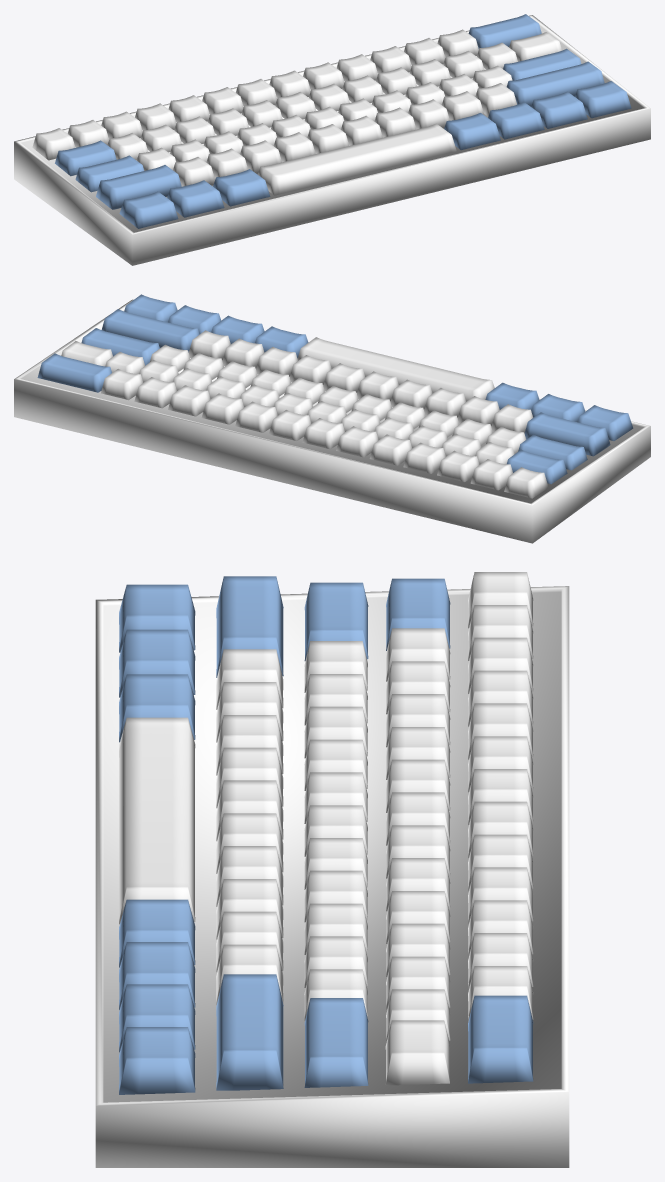
File: teclado-60.glb
3 renders of one model, top to bottom at view 1: azimuth 30°, elevation 25°; view 2: azimuth 150°, elevation 25°; view 3: azimuth 270°, elevation 25°, orthographic. The views are drawn at different scales.
Parts seen in each view (by area): view 1: Cube.005, Mechanical Keyboard.014; view 2: Cube.005, Mechanical Keyboard.014; view 3: Cube.005, Mechanical Keyboard.014.
Part boxes in pixels (<box>): Cube.005: <box>32,14,631,228</box>; Mechanical Keyboard.014: <box>14,15,650,265</box>; Cube.005: <box>37,294,633,498</box>; Mechanical Keyboard.014: <box>14,299,650,543</box>; Cube.005: <box>119,572,533,1094</box>; Mechanical Keyboard.014: <box>95,586,569,1167</box>.
Size of the model in its own units: 0.3035 by 0.0283 by 0.12.
